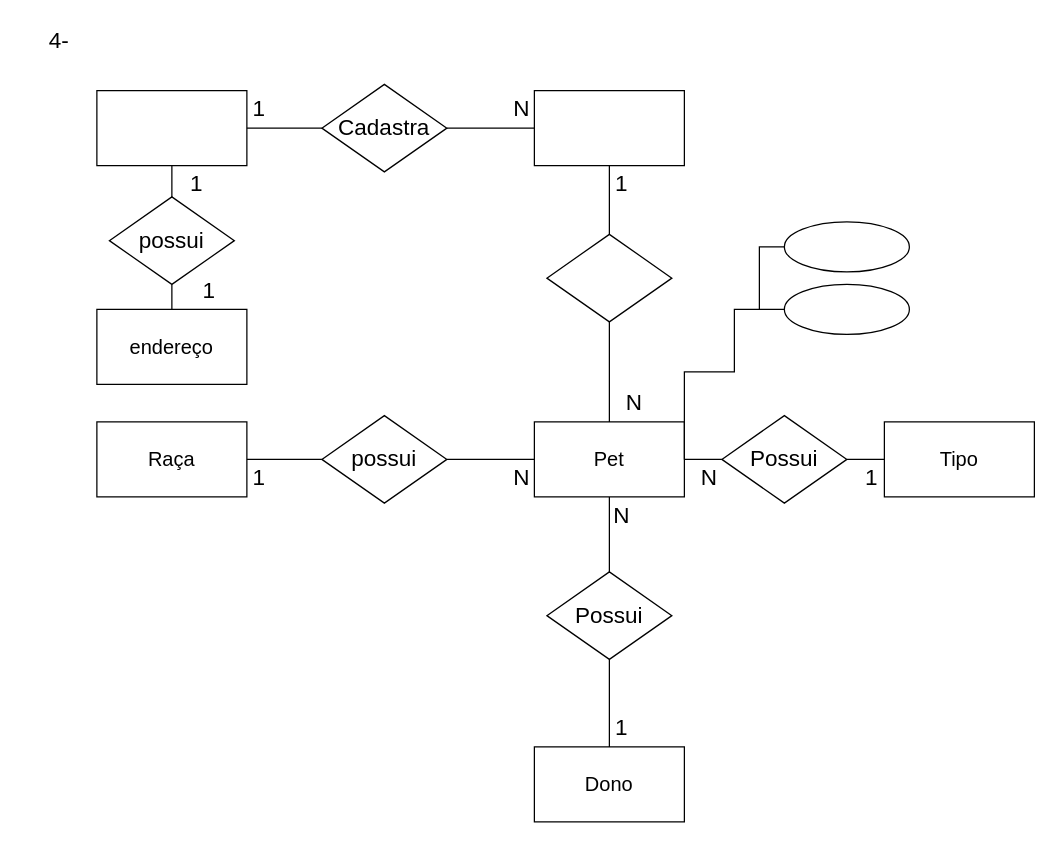
This 1056x844 diagram has some shape labels left out. The shapes that lost their labels are listed below. From the top down, each one's centre as x and y in pixels, then its label:
At pixel 171 127: "Clinica".
At pixel 608 127: "Veterinário".
At pixel 846 246: "Nome".
At pixel 609 277: "Atende".
At pixel 846 308: "Data nascimento".
